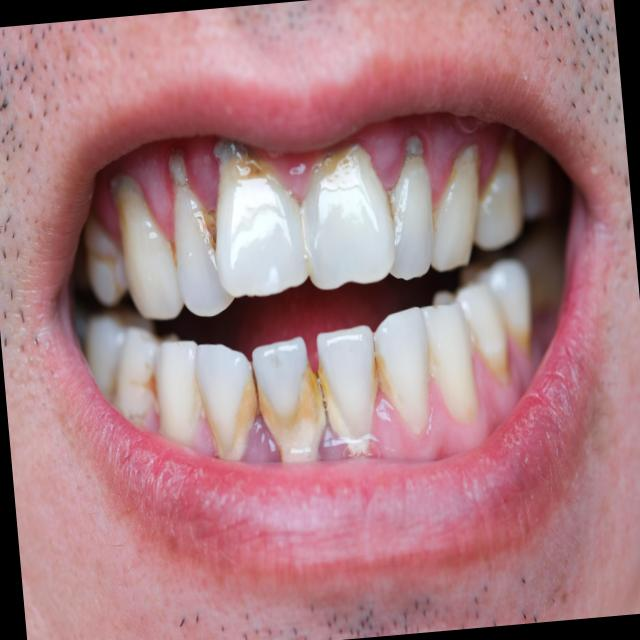Tooth: (297, 144, 395, 289), (216, 149, 308, 298), (116, 179, 184, 319), (251, 336, 320, 458), (174, 179, 234, 316), (316, 324, 378, 451), (433, 281, 509, 379), (373, 307, 430, 436), (195, 344, 257, 458), (420, 300, 478, 415), (387, 148, 434, 281), (462, 258, 533, 344), (430, 148, 478, 271), (86, 312, 153, 390), (473, 142, 522, 247), (156, 334, 202, 443), (112, 326, 162, 415), (84, 213, 127, 305), (519, 148, 550, 216)
